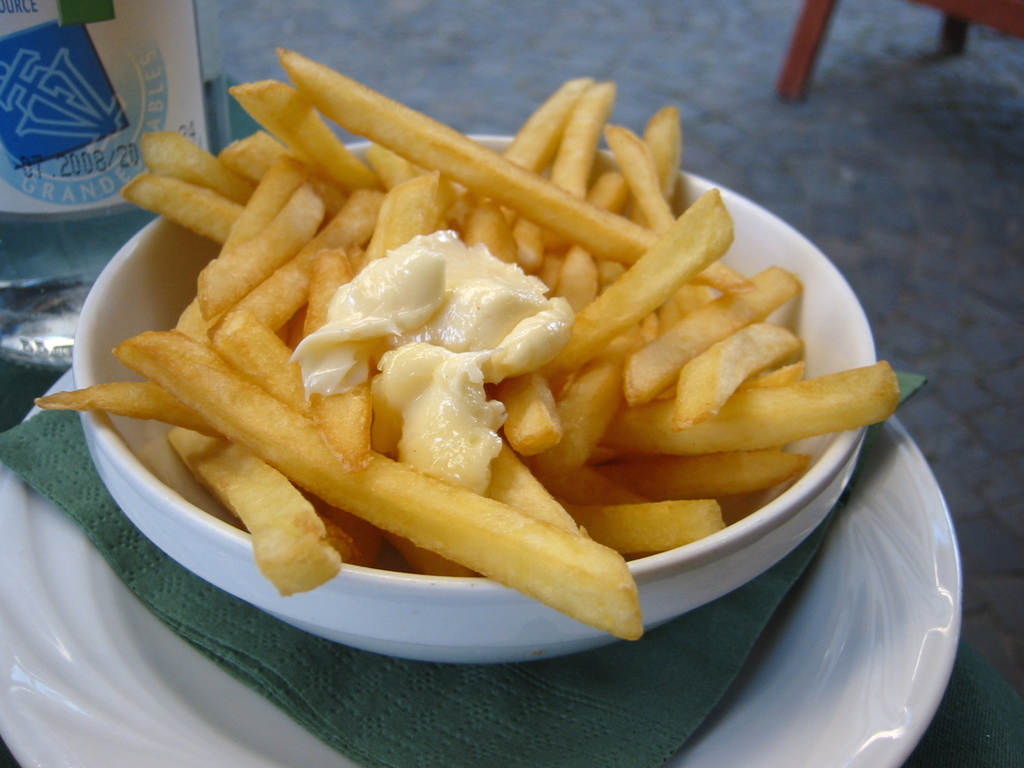French fries: (24, 35, 903, 646)
